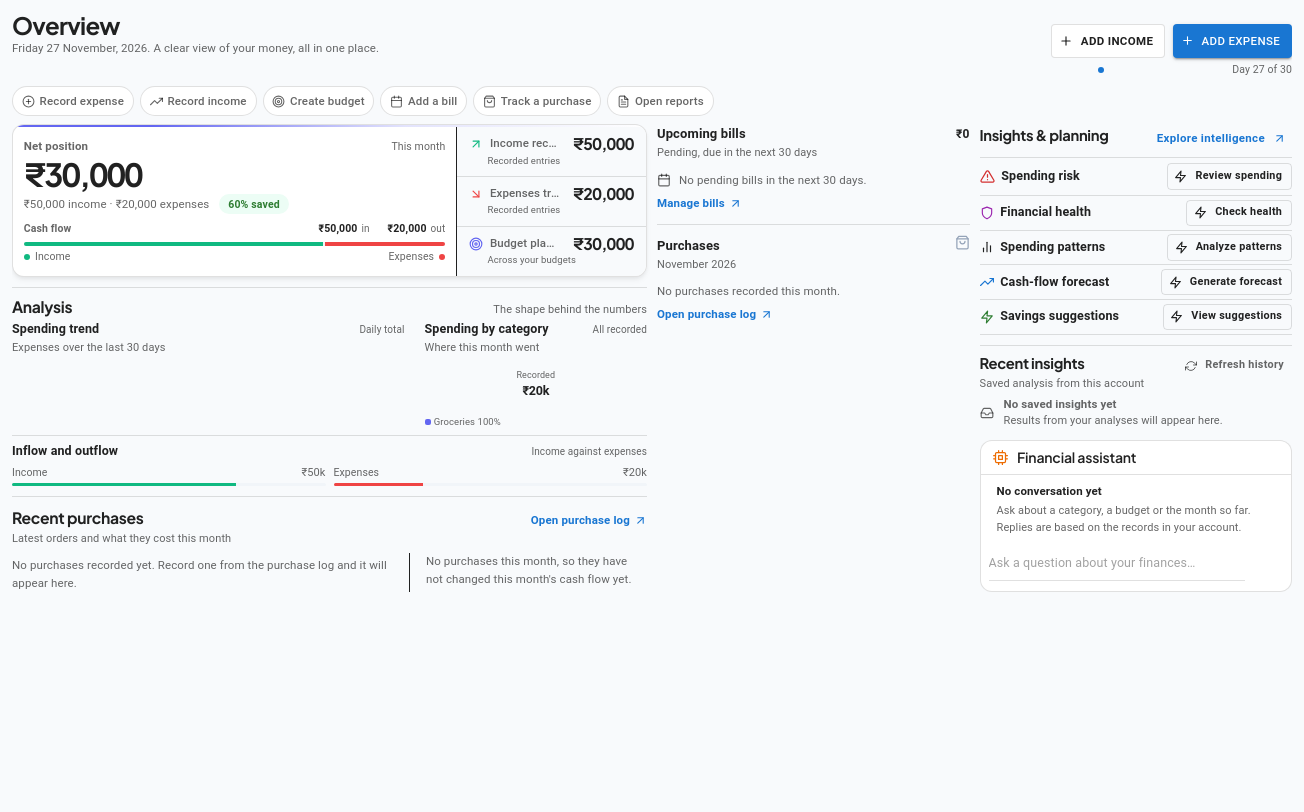
UserDashboard › requests a spending-risk assessment and renders the result
Step 1. Click the button "Review spending" → (1229, 177), box x1=1167 y1=163 x2=1292 y2=190
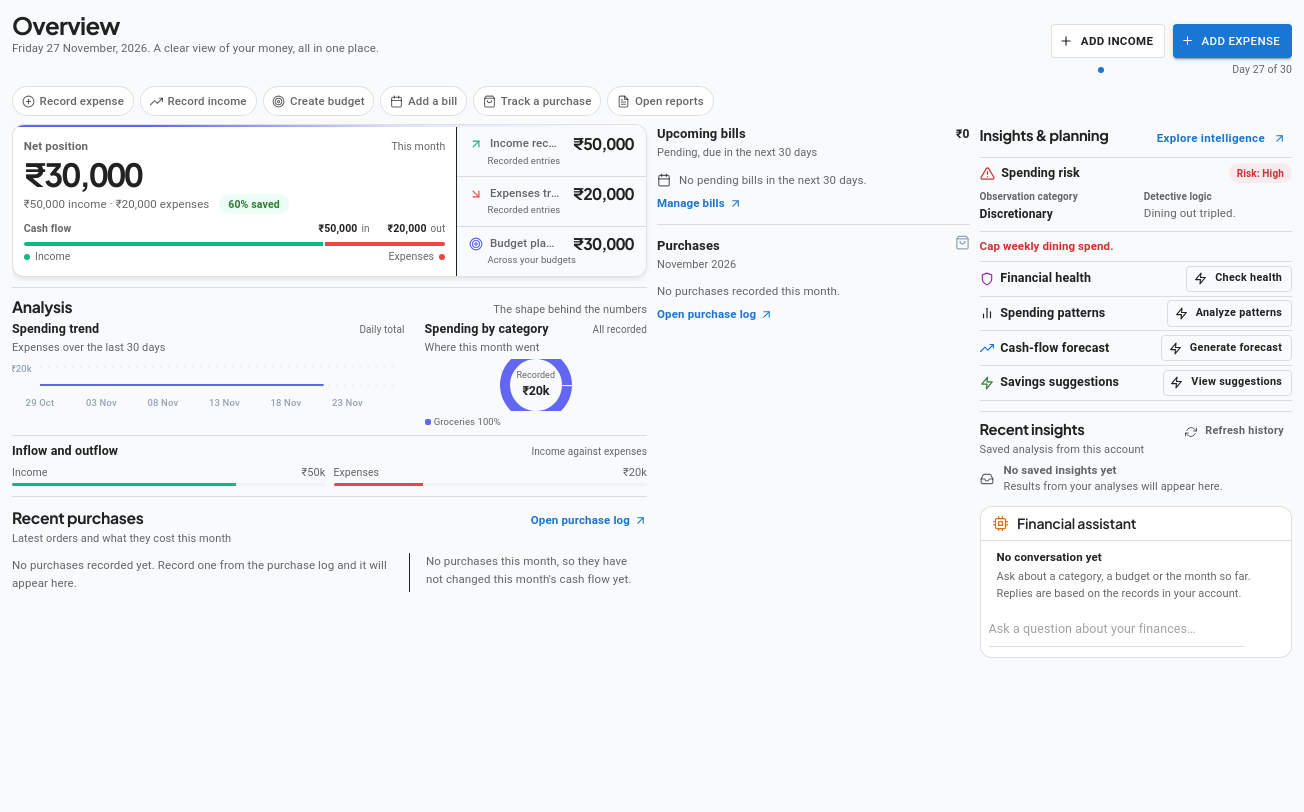
Check: the text "Risk: High" is shown, box x1=1237 y1=168 x2=1284 y2=179
Check: the text "Discretionary" is shown, box x1=980 y1=208 x2=1053 y2=222
Check: the text "Dining out tripled." is shown, box x1=1144 y1=206 x2=1236 y2=220
